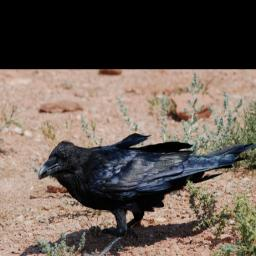Crow: (36, 132, 256, 256)
